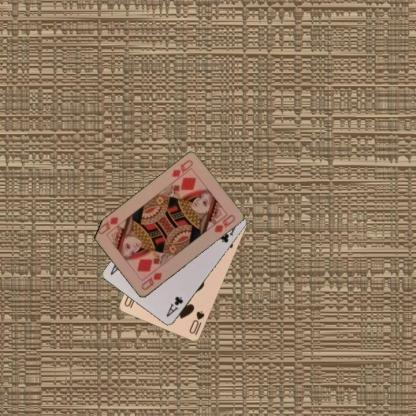10s: (186, 309, 206, 335)
Ac: (164, 294, 184, 318)
Qd: (169, 157, 194, 184), (139, 270, 163, 292)
